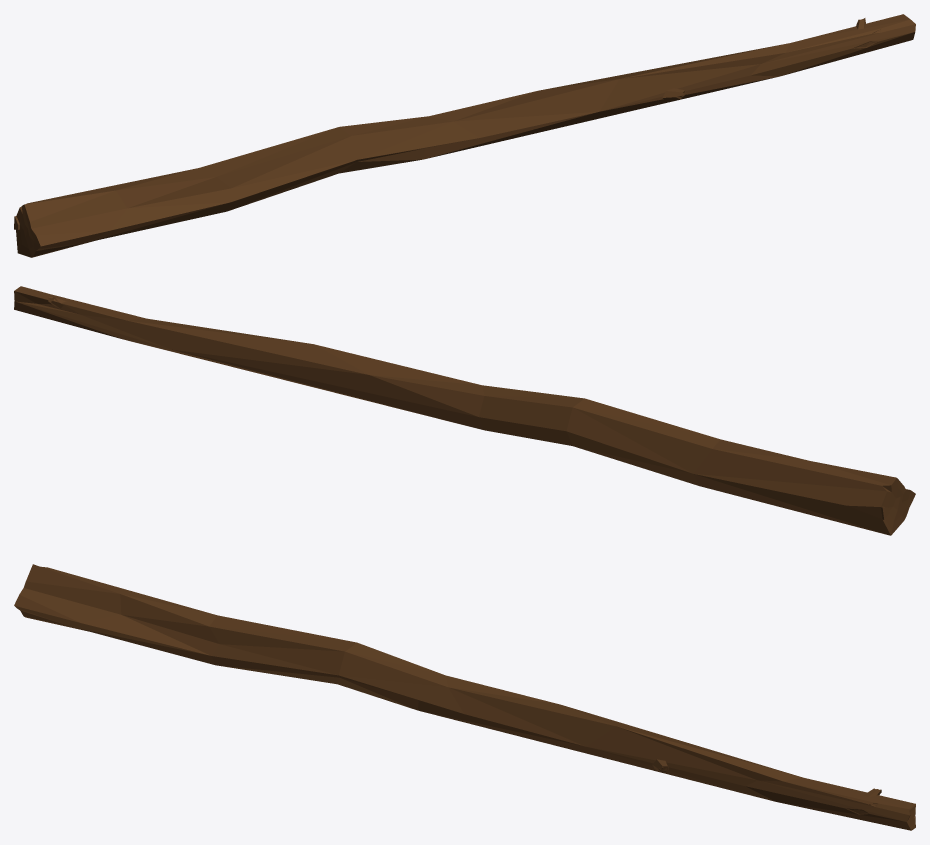
File: tree-spruce-log-a.gltf
The picture shows the model from 3 angles, top to bottom: view 1: azimuth 30°, elevation 25°; view 2: azimuth 150°, elevation 25°; view 3: azimuth 330°, elevation 25°; orthographic projection.
Parts seen in each view (by area): view 1: tree-spruce-log-a; view 2: tree-spruce-log-a; view 3: tree-spruce-log-a.
Boxes of the visible parts, <box> form: tree-spruce-log-a: <box>14,14,915,257</box>; tree-spruce-log-a: <box>14,286,915,535</box>; tree-spruce-log-a: <box>14,564,915,830</box>.
Size of the model in its own units: 0.0813 by 0.00469 by 0.0051.
